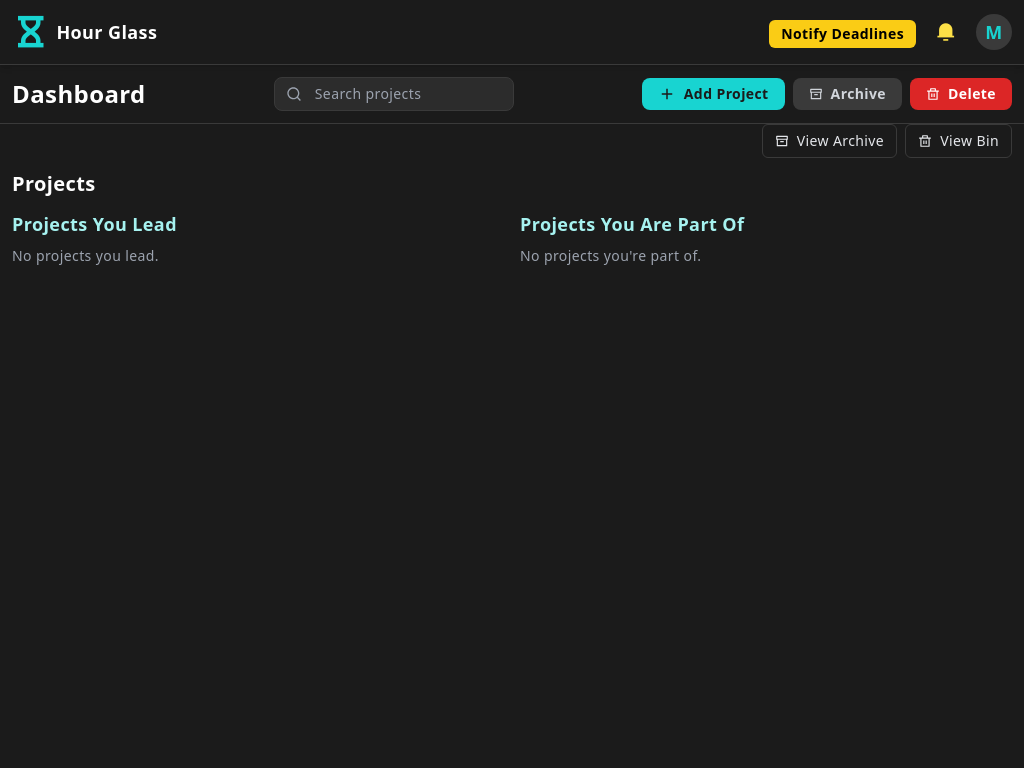
ManagerDashboard Component › opens and closes the Add Project modal
The width and height of the screenshot is (1024, 768).
Step 1. Click the button "Add Project" → (713, 94), box [642,78,785,110]
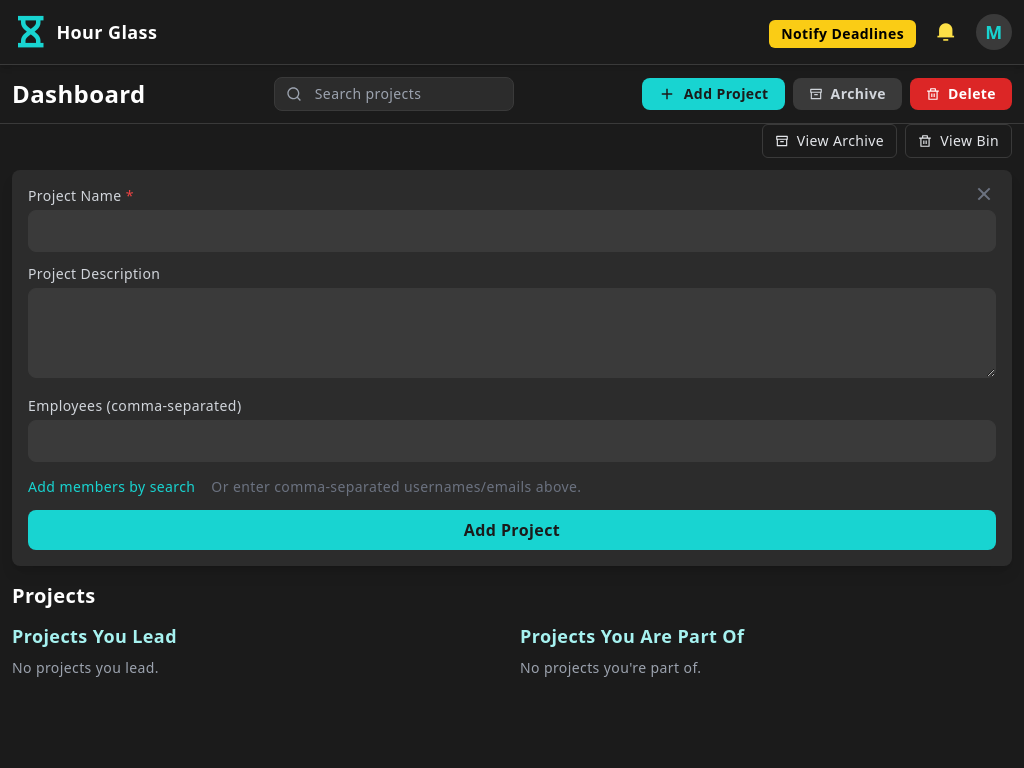
expect the text "Project Name" is shown: met, box [28,186,126,205]
Step 2. Click the button named "Close add project form" → (984, 194), box [972,182,996,206]
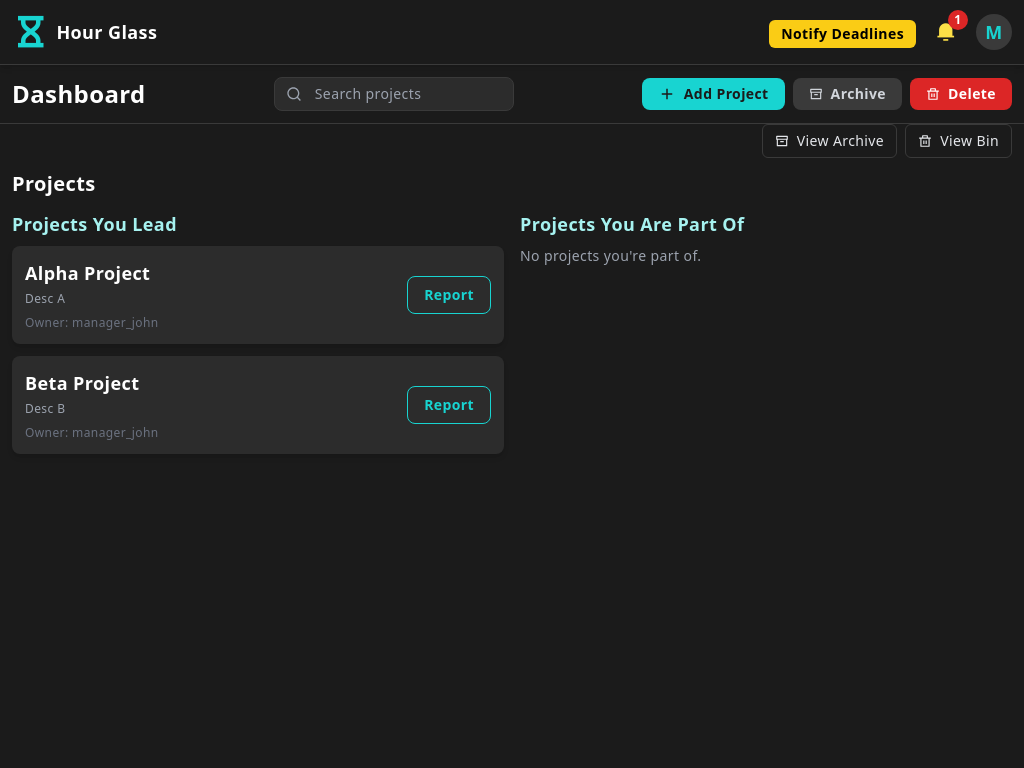
expect the text "Project Name" is gone: met
